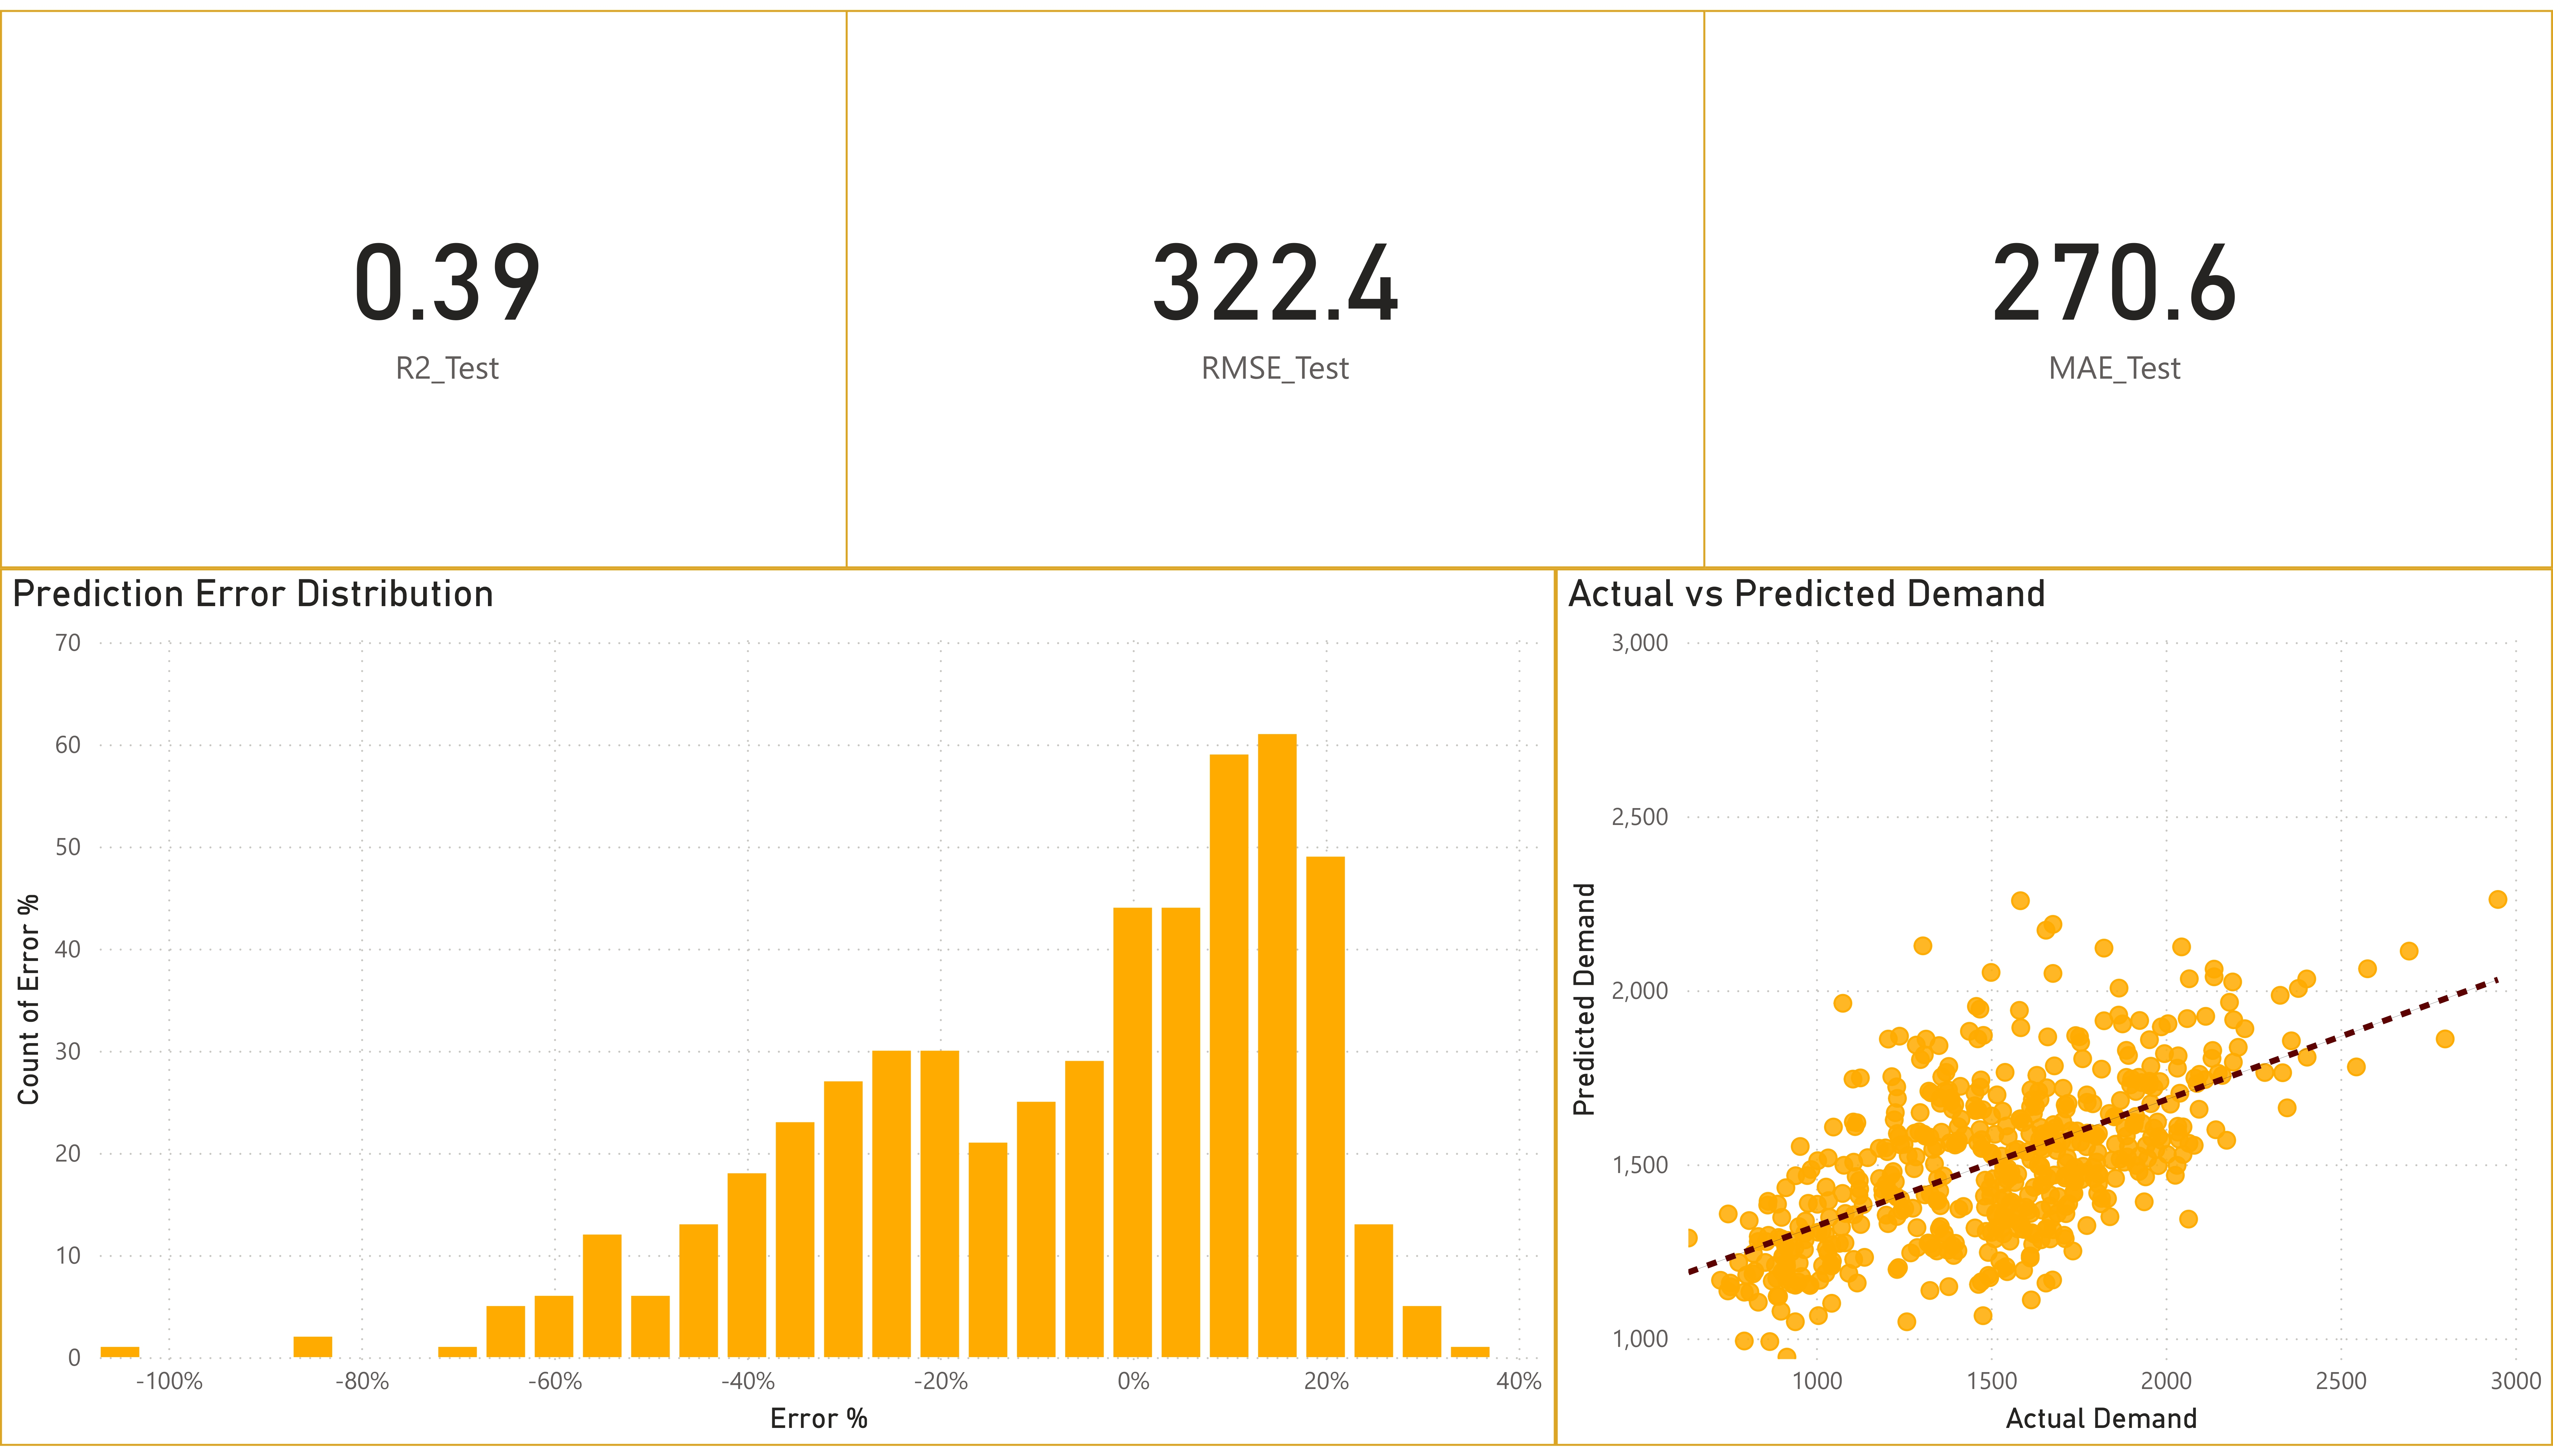

The page's visual inventory and layout, read from the dashboard file:
{"tool":"powerbi","page":{"name":"Model Performance & Validation","canvas":[1280,720],"ordinal":0},"visuals":[{"type":"scatterChart","title":"Actual vs Predicted Demand","fields":{"X":["predictions_vs_actuals.Actual Demand"],"Y":["predictions_vs_actuals.Predicted Demand"]},"box":[780,280,500,440],"z":1000},{"type":"clusteredColumnChart","title":"Prediction Error Distribution","fields":{"Category":["predictions_vs_actuals.Error % (bins)"],"Y":["CountNonNull(predictions_vs_actuals.Error %)"]},"box":[0,280,780,440],"z":2000},{"type":"card","fields":{"Values":["model_performance.R2_Test"]},"box":[0,0,448.5,280.1],"z":3000},{"type":"card","fields":{"Values":["model_performance.MAE_Test"]},"box":[840.4,0,440.4,280.1],"z":5000},{"type":"card","fields":{"Values":["model_performance.RMSE_Test"]},"box":[424.2,0,430.7,280.1],"z":5500}]}

Visuals, with their boxes in screenshot pixels (x1, y1, x2, y2), scaled from the page's 1280x720 canvas onto the 2553x1456 screenshot:
"Actual vs Predicted Demand" scatterChart: crop(1556, 566, 2553, 1456)
"Prediction Error Distribution" clusteredColumnChart: crop(0, 566, 1556, 1456)
card - model_performance.R2_Test: crop(0, 0, 895, 567)
card - model_performance.MAE_Test: crop(1676, 0, 2553, 567)
card - model_performance.RMSE_Test: crop(846, 0, 1705, 567)
